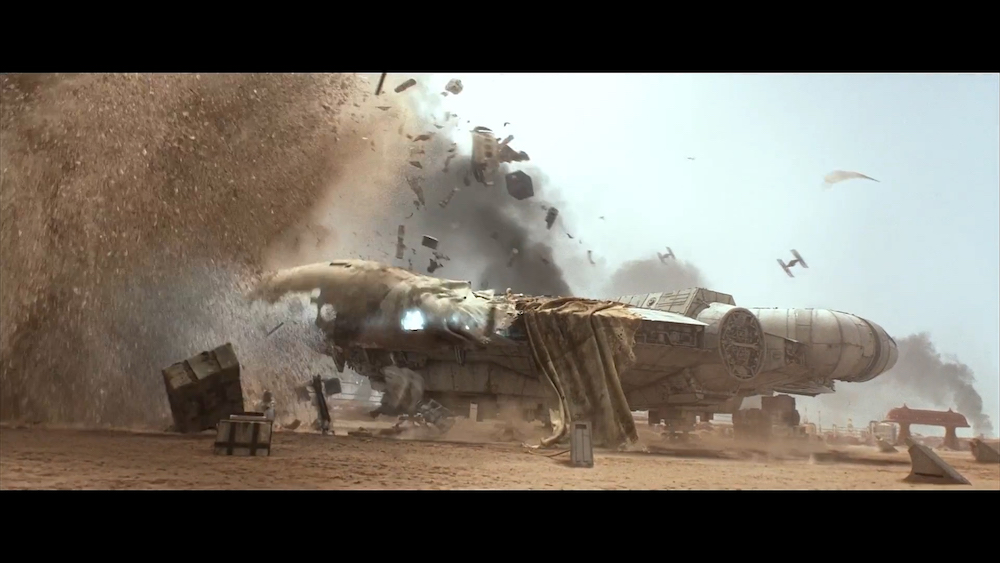Millennium Falcon: (301, 289, 900, 413)
Tie Fighter: (777, 250, 809, 278), (657, 248, 676, 265)
